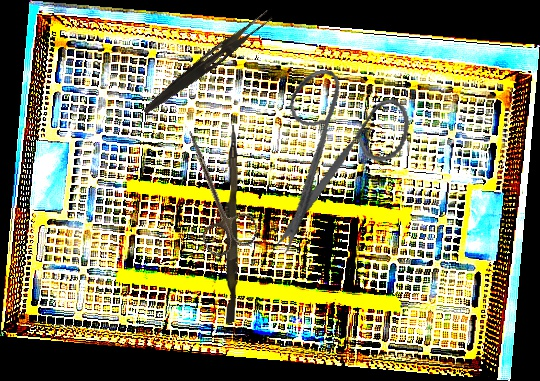Dressing Forceps: (140, 5, 275, 121)
Iris Scissors: (240, 55, 432, 259), (161, 120, 263, 261)
Pusher: (222, 125, 241, 323)
